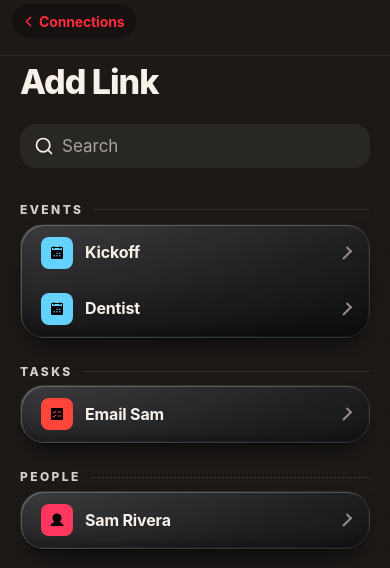
LinkPicker › search (HMN-F-26) › narrows every section at once, and leaves the rest alone
Type "sam" into the field with placeholder "Search" at point(209, 146), box [62,136,356,156]
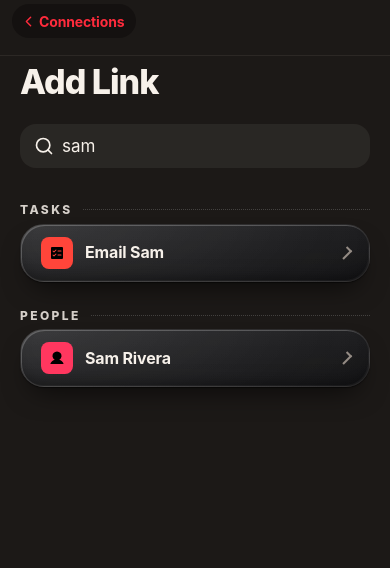
Expected: the text "Email Sam" is shown, [85,242,164,262]
Result: the button "Kickoff" is gone
Result: the button "Dentist" is gone
